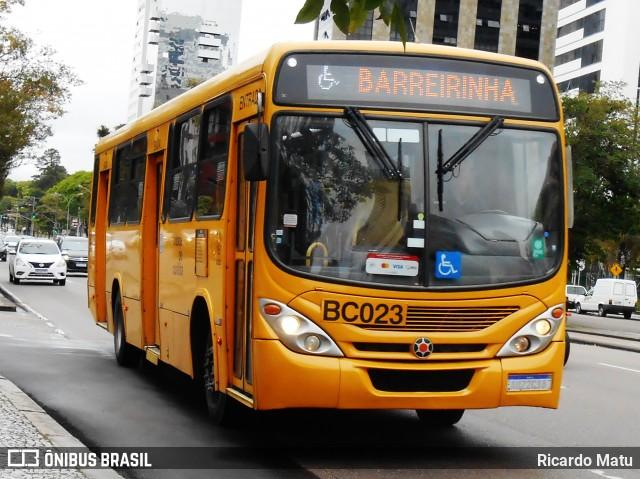BARREIRINHA: (351, 63, 517, 108)
